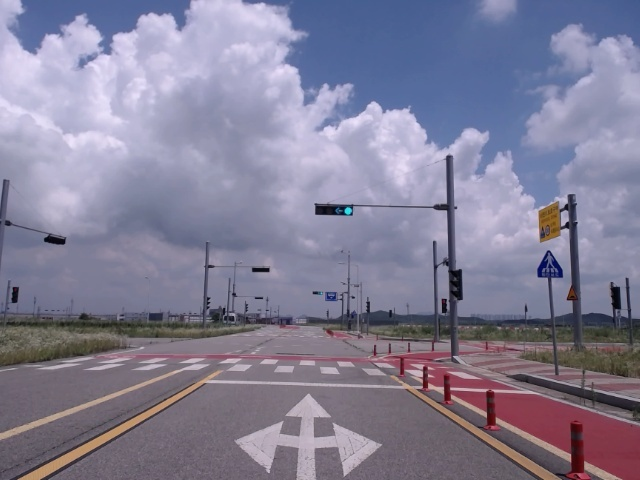all_green_4: (316, 204, 353, 217)
